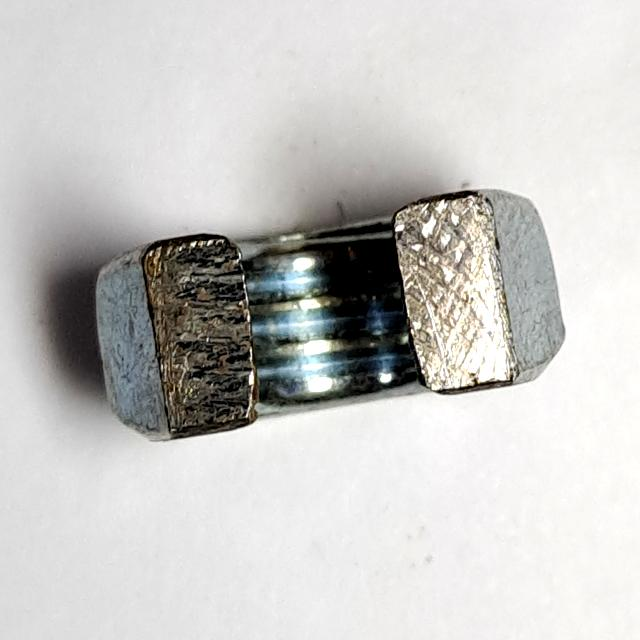Side-Fracture: (90, 175, 577, 467)
